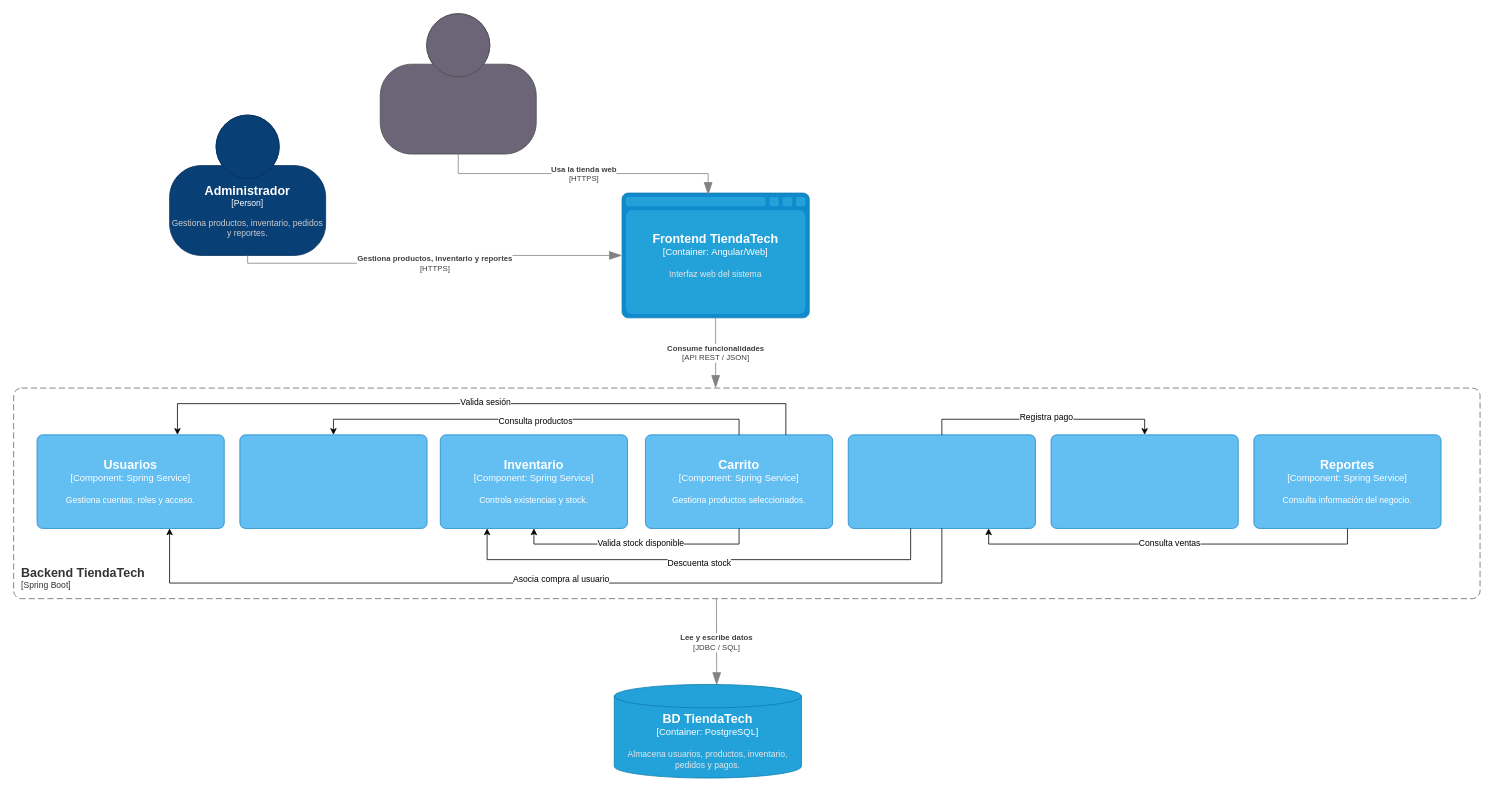
The diagram is 1494 pixels wide and 792 high, and some of its shapes have lost their labels. The shapes that lost their labels are listed below. From the top down, each one's centre as x and y in pixels, then its label:
(x=457, y=83): Cliente [Person] Usa la tienda web para consultar productos y realizar compras.
(x=333, y=481): Catálogo [Component: Spring Service] Gestiona productos del catálogo.
(x=941, y=481): Pedidos [Component: Spring Service] Registra compras y estados del pedido.
(x=1144, y=481): Pagos [Component: Spring Service] Gestiona el proceso de cobro.
